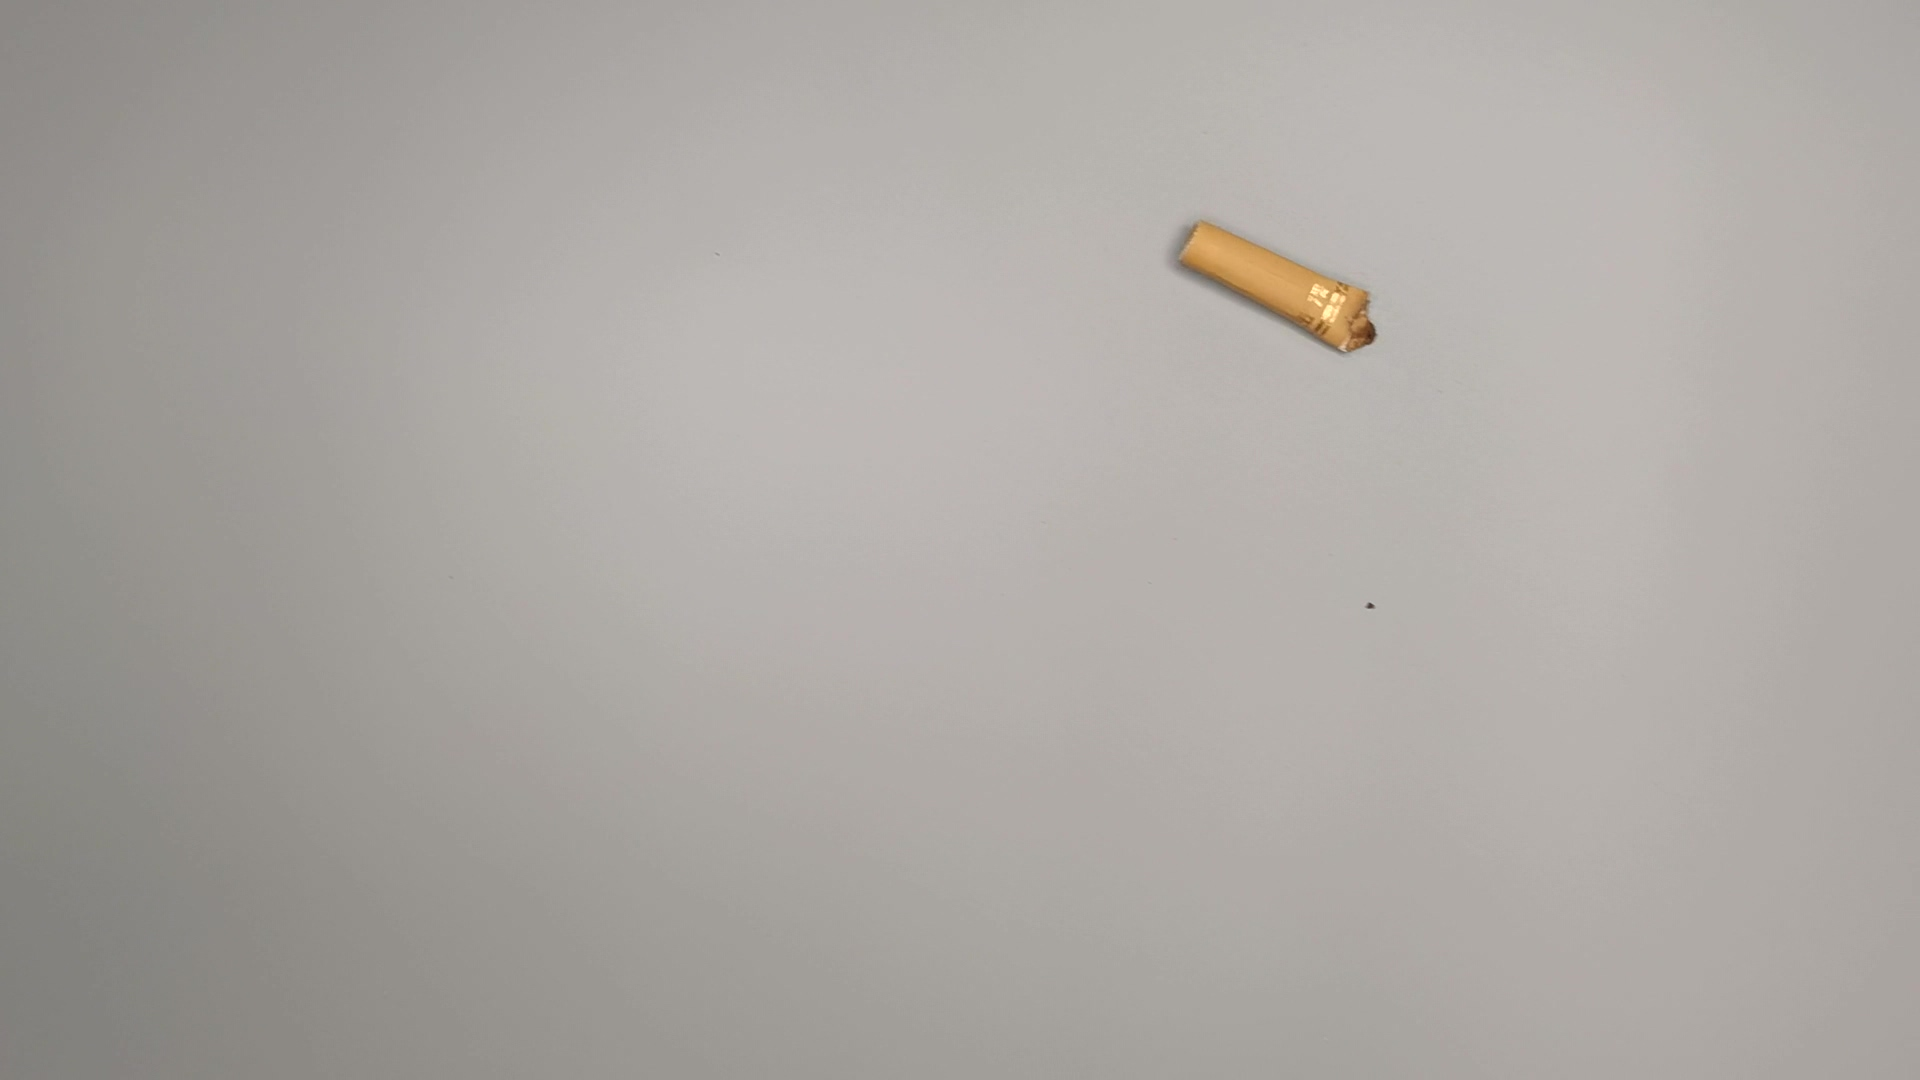cigarette: (1164, 218, 1404, 363)
